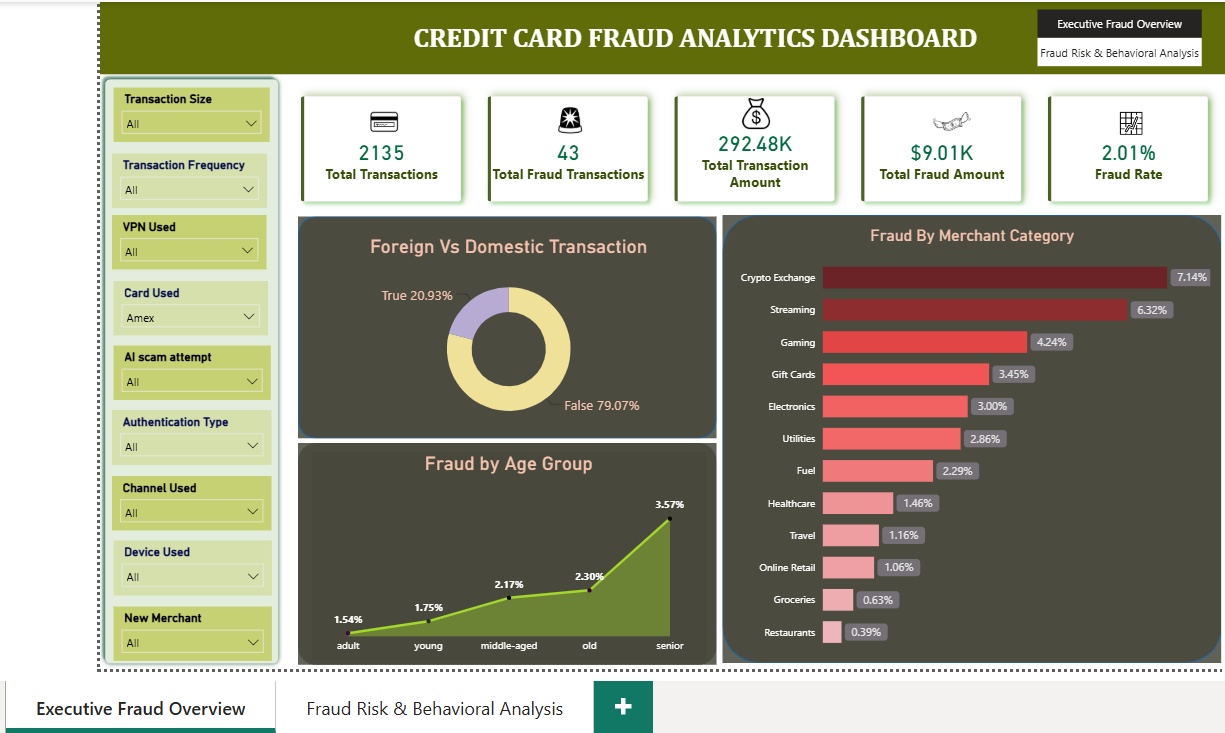

This screenshot's page, from the dashboard's own definition file:
{"tool":"powerbi","page":{"name":"Executive Fraud Overview","canvas":[1360,800],"ordinal":0},"visuals":[{"type":"shape","box":[237.5,257.3,502,266.3],"z":0},{"type":"textbox","box":[0,0,1400,86.7],"z":1000},{"type":"shape","box":[0,86.7,220,713.3],"z":2000},{"type":"cardVisual","fields":{"Data":["CountNonNull(credit_card_fraud_analysis_db fraud_analysis.transaction_id)","Sum(credit_card_fraud_analysis_db fraud_analysis.is_fraud)","Sum(credit_card_fraud_analysis_db fraud_analysis.amount_usd)","fraud_analysis.Total Fraud Amount","credit_card_fraud_analysis_db fraud_analysis.Fraud Rate"]},"box":[224.9,97.2,1122.7,158.3],"z":3000},{"type":"donutChart","title":"Foreign  Vs Domestic Transaction","fields":{"Category":["fraud_analysis.is_foreign_transaction"],"Y":["Sum(fraud_analysis.is_fraud)"]},"box":[253.7,268.1,473.2,242.9],"z":4000},{"type":"slicer","fields":{"Values":["fraud_analysis.is_new_merchant"]},"box":[15.6,724.4,190,65],"z":5000},{"type":"slicer","fields":{"Values":["fraud_analysis.is_ai_generated_scam_attempt"]},"box":[16.3,412.1,188.9,65.6],"z":6000},{"type":"slicer","fields":{"Values":["fraud_analysis.used_vpn"]},"box":[15,256.2,185,65],"z":7000},{"type":"slicer","fields":{"Values":["fraud_analysis.channel"]},"box":[15,568.5,191.2,65],"z":8000},{"type":"shape","box":[237.5,528.9,502,266.3],"z":9000},{"type":"slicer","fields":{"Values":["fraud_analysis.transaction_frequency"]},"box":[15,181.2,186.2,65],"z":10000},{"type":"slicer","fields":{"Values":["fraud_analysis.transaction_size"]},"box":[15.6,102.2,187.5,65],"z":11000},{"type":"slicer","fields":{"Values":["fraud_analysis.card_type"]},"box":[16.2,333.8,185,65],"z":12000},{"type":"slicer","fields":{"Values":["fraud_analysis.device_type"]},"box":[15.6,645.9,190,66.2],"z":13000},{"type":"slicer","fields":{"Values":["fraud_analysis.auth_method"]},"box":[15,490,191.2,66.2],"z":14000},{"type":"areaChart","title":"Fraud by Age Group","fields":{"Category":["fraud_analysis.age_group"],"Y":["fraud_analysis.Fraud Rate"]},"box":[253.7,539.7,473.2,250.1],"z":15000},{"type":"image","box":[315.6,124.4,52.2,39],"z":16000},{"type":"image","box":[761,115.1,52.2,37],"z":17000},{"type":"image","box":[537.9,122.3,52.2,39],"z":18000},{"type":"image","box":[1210.8,125.9,52.2,39],"z":19000},{"type":"image","box":[994.9,120.5,52.1,45],"z":20000},{"type":"shape","box":[746.6,255.5,599.1,537],"z":21000},{"type":"barChart","title":"Fraud By Merchant Category","fields":{"Category":["fraud_analysis.merchant_category"],"Y":["fraud_analysis.Fraud Rate"]},"box":[755.6,268.1,581.1,521.8],"z":22000},{"type":"pageNavigator","box":[1124.5,9,197.9,68.4],"z":23000}]}

Visuals, with their boxes on the page's 1360x800 design canvas (x1, y1, x2, y2). These are canvas units, not pixel positions in the 1225x733 screenshot, which may show the page scaled, cropped or inside an application window:
shape: <region>238, 257, 740, 524</region>
textbox: <region>0, 0, 1400, 87</region>
shape: <region>0, 87, 220, 800</region>
cardVisual - CountNonNull(credit_card_fraud_analysis_db fraud_analysis.transaction_id) x Sum(credit_card_fraud_analysis_db fraud_analysis.is_fraud): <region>225, 97, 1348, 256</region>
"Foreign  Vs Domestic Transaction" donutChart: <region>254, 268, 727, 511</region>
slicer - fraud_analysis.is_new_merchant: <region>16, 724, 206, 789</region>
slicer - fraud_analysis.is_ai_generated_scam_attempt: <region>16, 412, 205, 478</region>
slicer - fraud_analysis.used_vpn: <region>15, 256, 200, 321</region>
slicer - fraud_analysis.channel: <region>15, 568, 206, 634</region>
shape: <region>238, 529, 740, 795</region>
slicer - fraud_analysis.transaction_frequency: <region>15, 181, 201, 246</region>
slicer - fraud_analysis.transaction_size: <region>16, 102, 203, 167</region>
slicer - fraud_analysis.card_type: <region>16, 334, 201, 399</region>
slicer - fraud_analysis.device_type: <region>16, 646, 206, 712</region>
slicer - fraud_analysis.auth_method: <region>15, 490, 206, 556</region>
"Fraud by Age Group" areaChart: <region>254, 540, 727, 790</region>
image: <region>316, 124, 368, 163</region>
image: <region>761, 115, 813, 152</region>
image: <region>538, 122, 590, 161</region>
image: <region>1211, 126, 1263, 165</region>
image: <region>995, 120, 1047, 166</region>
shape: <region>747, 256, 1346, 792</region>
"Fraud By Merchant Category" barChart: <region>756, 268, 1337, 790</region>
pageNavigator: <region>1124, 9, 1322, 77</region>
